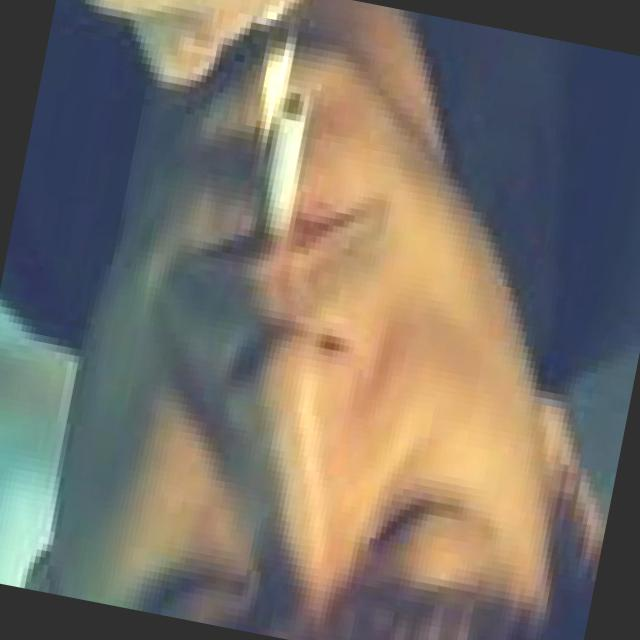smoke: (229, 80, 325, 272)
